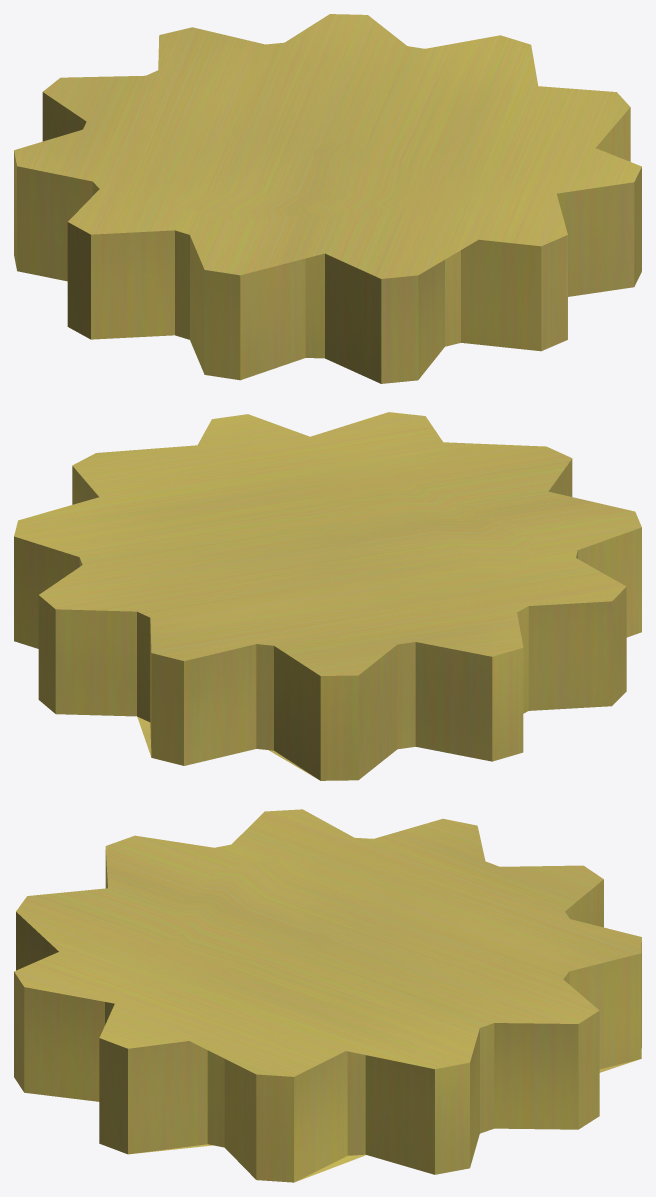
The model's file is Cog3Spoke011.fbx.
3 views of the same model, one above another, from view 1: azimuth 30°, elevation 25°; view 2: azimuth 150°, elevation 25°; view 3: azimuth 270°, elevation 25° (orthographic).
Parts seen in each view (by area): view 1: Cog3Spoke011; view 2: Cog3Spoke011; view 3: Cog3Spoke011.
Boxes of the visible parts, box(x1,y1,x2,y2) form: Cog3Spoke011: box(14, 14, 641, 383); Cog3Spoke011: box(14, 412, 641, 780); Cog3Spoke011: box(14, 809, 641, 1182).
Bounding box in the file's own units: 107 × 19.69 × 106.
